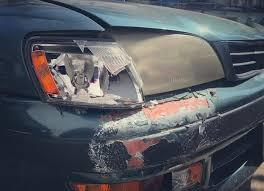Headlight-Damage: (11, 21, 144, 110)
front-bumper-dent: (5, 86, 261, 190)
